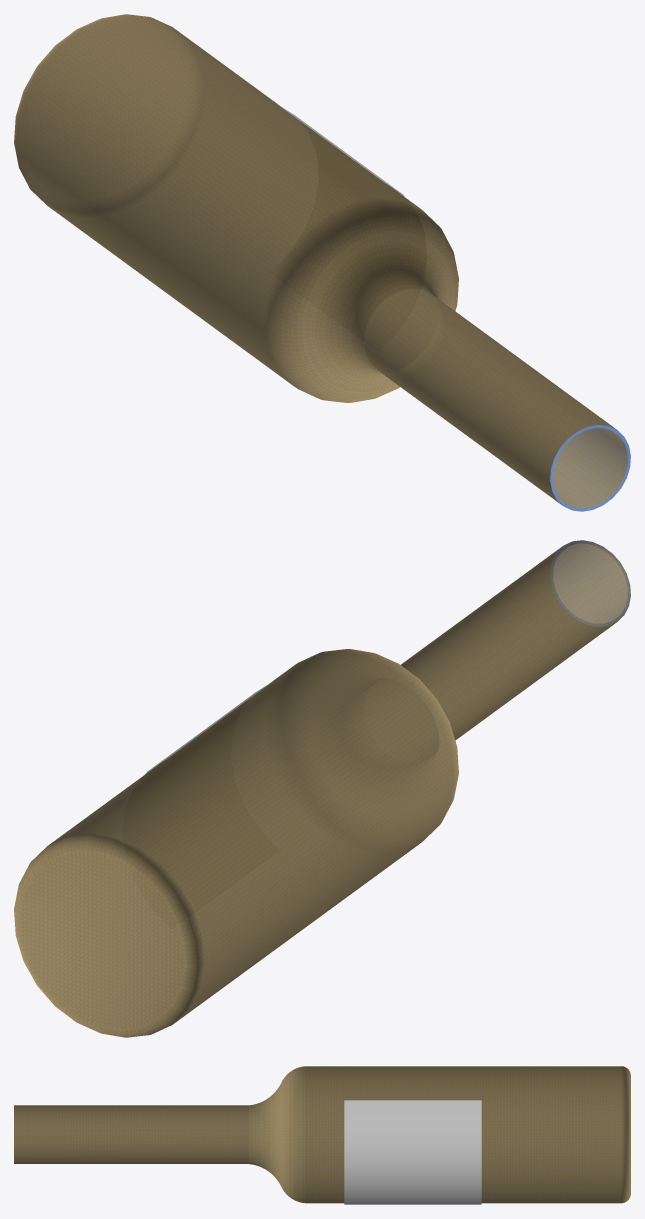
File: model_scale.obj
3 renders of one model, top to bottom at view 1: azimuth 30°, elevation 25°; view 2: azimuth 150°, elevation 25°; view 3: azimuth 270°, elevation 25°, orthographic. The views are drawn at different scales.
Parts seen in each view (by area): view 1: mesh1_mesh1-geometry; view 2: mesh1_mesh1-geometry; view 3: mesh1_mesh1-geometry, mesh2_mesh2-geometry.
Part boxes in pixels (x1,y1,x2,y2): mesh1_mesh1-geometry: [14, 14, 630, 511]; mesh1_mesh1-geometry: [14, 540, 630, 1037]; mesh1_mesh1-geometry: [14, 1066, 630, 1203]; mesh2_mesh2-geometry: [344, 1100, 481, 1204].
Size of the model in its own units: 0.0507 by 0.0497 by 0.2228.
